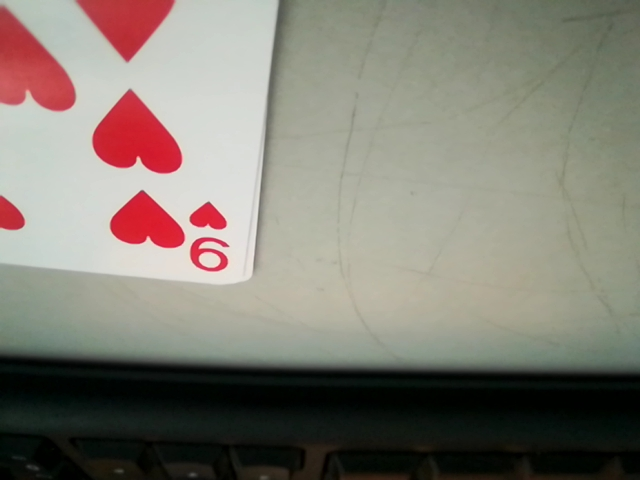hx 9: (184, 200, 238, 279)
